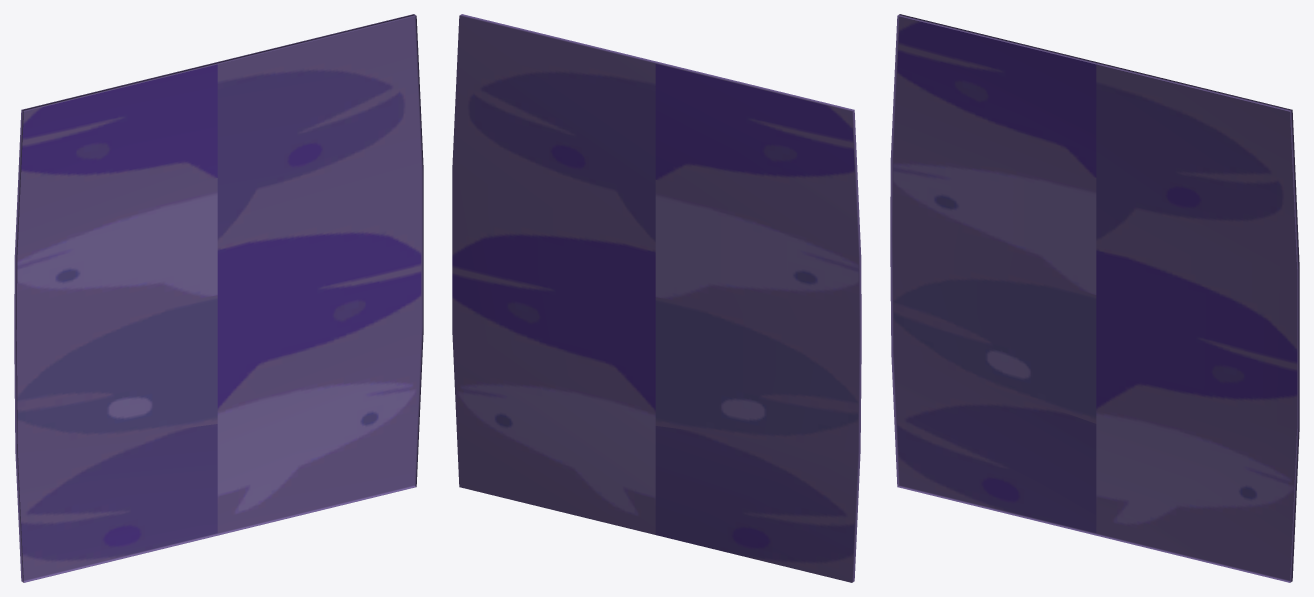
File: FishRug.fbx
3 renders of one model, left to right at view 1: azimuth 30°, elevation 25°; view 2: azimuth 150°, elevation 25°; view 3: azimuth 330°, elevation 25°, orthographic.
Visible parts, largest first — view 1: FishRug; view 2: FishRug; view 3: FishRug.
Part boxes in pixels (x1,y1,x2,y2): FishRug: (14,14,423,582); FishRug: (452,14,861,582); FishRug: (890,14,1299,582).
Size of the model in its own units: 132 by 146 by 1.45.
